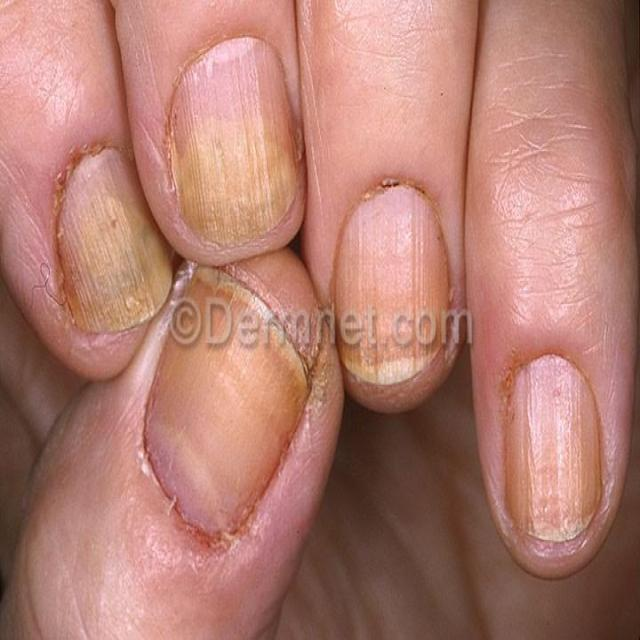Nail: (143, 267, 308, 536), (175, 41, 300, 245), (335, 185, 450, 386), (58, 153, 170, 335), (507, 353, 606, 540)
